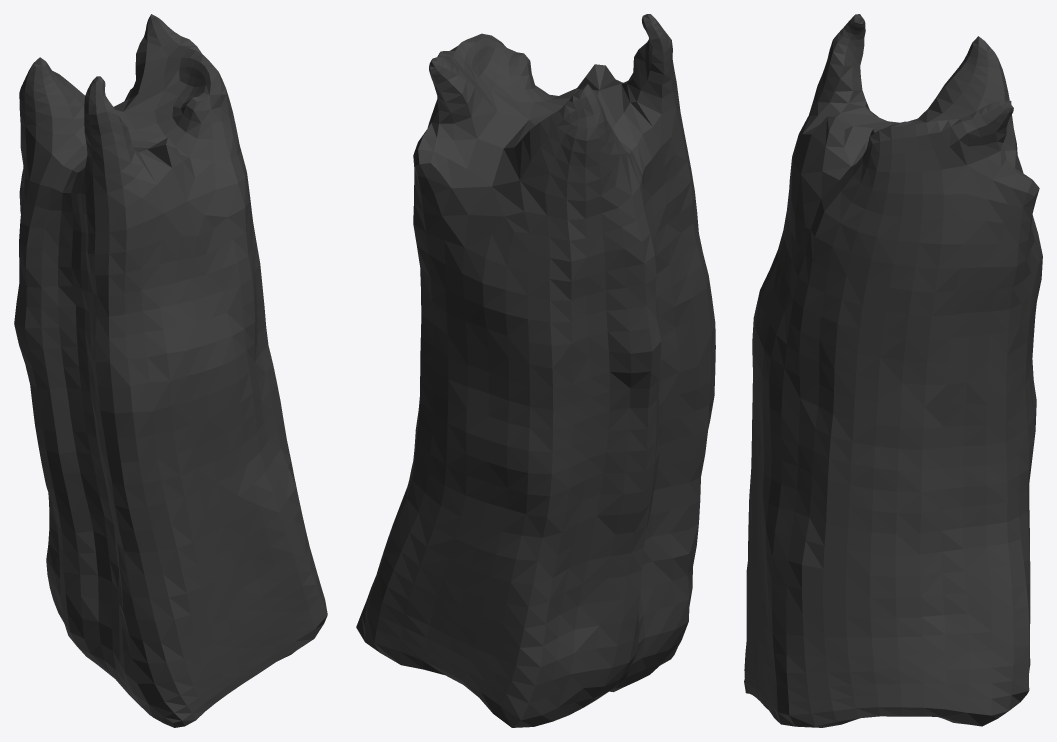
File: R_max_M2.glb
3 renders of one model, left to right at view 1: azimuth 30°, elevation 25°; view 2: azimuth 150°, elevation 25°; view 3: azimuth 270°, elevation 25°, orthographic. The views are drawn at different scales.
Visible parts, largest first — view 1: R_max_M2; view 2: R_max_M2; view 3: R_max_M2.
Boxes of the visible parts, x1,y1,x2,y2 form: R_max_M2: (14,14,327,727); R_max_M2: (356,14,715,727); R_max_M2: (744,14,1042,727).
Size of the model in its own units: 0.5209 by 1.21 by 0.4882.
1 material, 1 textured.
